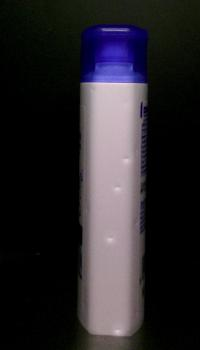dent_unacceptable: (106, 179, 130, 197), (106, 223, 123, 248), (116, 150, 135, 172), (109, 326, 130, 337), (108, 336, 109, 337)
